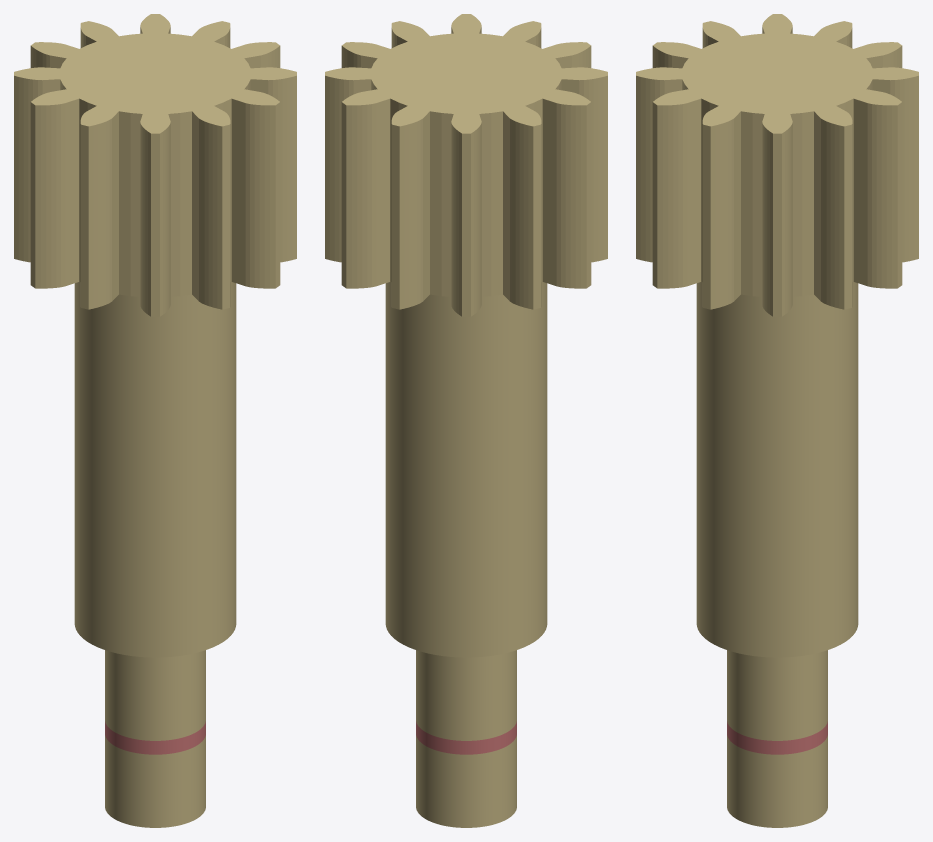
Rendered from step_06.glb.
The picture shows the model from 3 angles, left to right: view 1: azimuth 30°, elevation 25°; view 2: azimuth 150°, elevation 25°; view 3: azimuth 270°, elevation 25°; orthographic projection.
Visible parts, largest first — view 1: part__sun gear, removed__sun gear; view 2: part__sun gear, removed__sun gear; view 3: part__sun gear, removed__sun gear.
Part boxes in pixels (<box>): part__sun gear: <box>14,14,296,827</box>; removed__sun gear: <box>105,721,205,754</box>; part__sun gear: <box>325,14,607,827</box>; removed__sun gear: <box>416,721,516,754</box>; part__sun gear: <box>636,14,918,827</box>; removed__sun gear: <box>727,721,827,754</box>.
Bounding box in the file's own units: 13.99 × 40 × 13.99.
